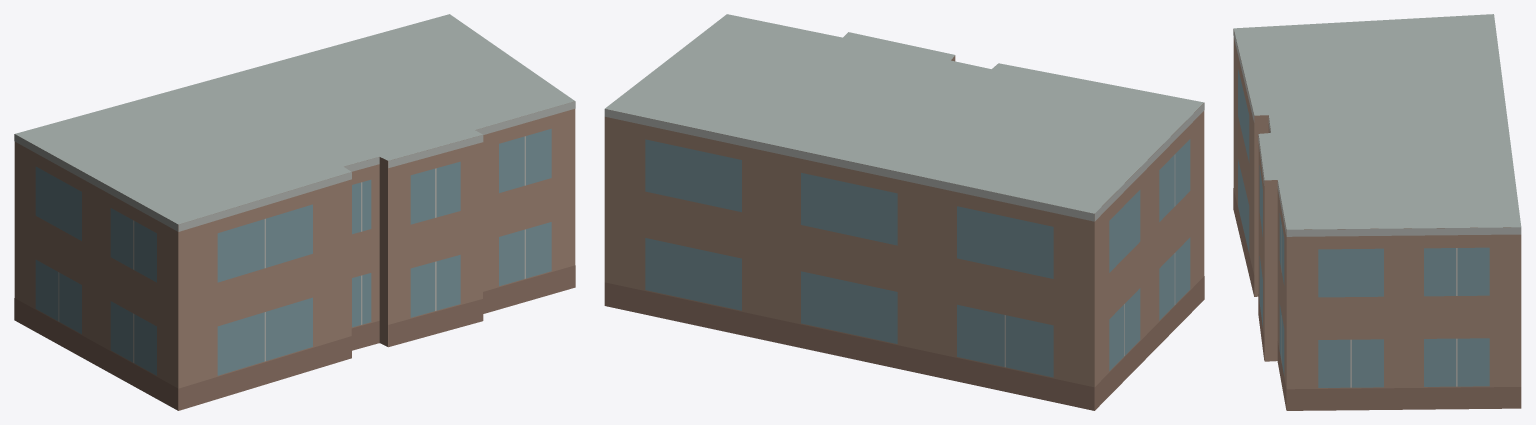
Rendered from survey-upis-32896833.glb.
3 views of the same model, side by side, from view 1: azimuth 30°, elevation 25°; view 2: azimuth 150°, elevation 25°; view 3: azimuth 270°, elevation 25° (orthographic). The views are drawn at different scales.
Parts seen in each view (by area): view 1: survey-upis-32896833.tmp; view 2: survey-upis-32896833.tmp; view 3: survey-upis-32896833.tmp.
Part boxes in pixels (x1,y1,x2,y2): survey-upis-32896833.tmp: (14,14,575,410); survey-upis-32896833.tmp: (604,14,1204,410); survey-upis-32896833.tmp: (1233,14,1521,410).
Size of the model in its own units: 15.57 by 6.1 by 8.79.
